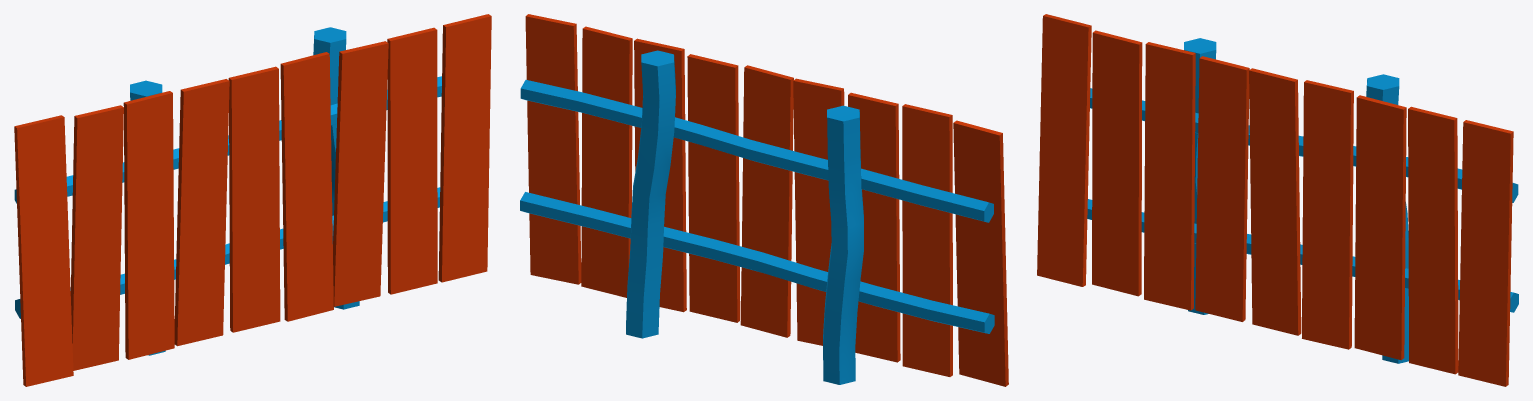
File: SbS_Fence_A_01.fbx
The picture shows the model from 3 angles, left to right: view 1: azimuth 30°, elevation 25°; view 2: azimuth 150°, elevation 25°; view 3: azimuth 330°, elevation 25°; orthographic projection.
Visible parts, largest first — view 1: SbS_Fence_A_01; view 2: SbS_Fence_A_01; view 3: SbS_Fence_A_01.
Part boxes in pixels (box(x1,y1,x2,y2)): SbS_Fence_A_01: box(14, 14, 491, 386); SbS_Fence_A_01: box(520, 14, 1008, 386); SbS_Fence_A_01: box(1037, 14, 1518, 386).
Size of the model in its own units: 488 by 268 by 55.32.
